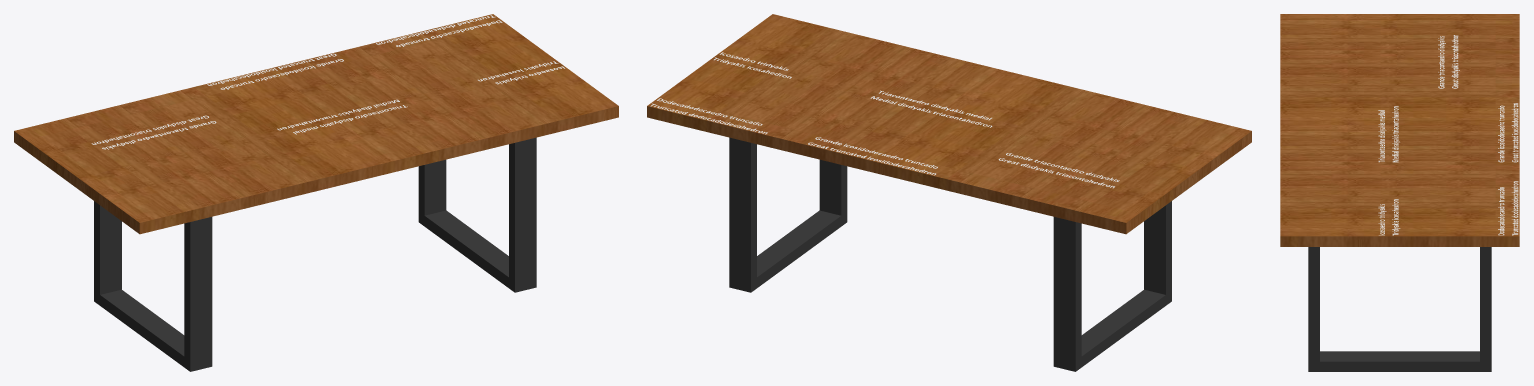
File: selfinterTrunc4.glb
3 renders of one model, left to right at view 1: azimuth 30°, elevation 25°; view 2: azimuth 150°, elevation 25°; view 3: azimuth 270°, elevation 25°, orthographic. The views are drawn at different scales.
Parts seen in each view (by area): view 1: object 1, Composant#1 (×2), Grande icosidode, Triacontaedro di, Grande triaconta, Dodecadodecaedro; view 2: object 1, Composant#1 (×2), Grande icosidode, Triacontaedro di, Grande triaconta, Dodecadodecaedro; view 3: object 1, Composant#1, Triacontaedro di, Grande icosidode, Grande triaconta, Dodecadodecaedro, Icosaedro tridya.
Boxes of the visible parts, x1,y1,x2,y2 form: object 1: (14,14,618,234); Composant#1 (×2): (94,137,536,371); Grande icosidode: (207,53,343,89); Triacontaedro di: (277,99,407,134); Grande triaconta: (91,115,216,149); Dodecadodecaedro: (376,15,502,46); object 1: (647,14,1251,234); Composant#1 (×2): (729,137,1171,371); Grande icosidode: (808,137,937,175); Triacontaedro di: (870,90,992,127); Grande triaconta: (998,153,1119,188); Dodecadodecaedro: (650,98,767,134); object 1: (1280,14,1519,246); Composant#1: (1308,247,1491,371); Triacontaedro di: (1378,106,1399,162); Grande icosidode: (1498,103,1518,162); Grande triaconta: (1438,35,1459,88); Dodecadodecaedro: (1498,181,1518,235); Icosaedro tridya: (1378,199,1400,235).
Bounding box in the file's own units: 2.2 × 0.771 × 1.
3 materials, 1 textured.
